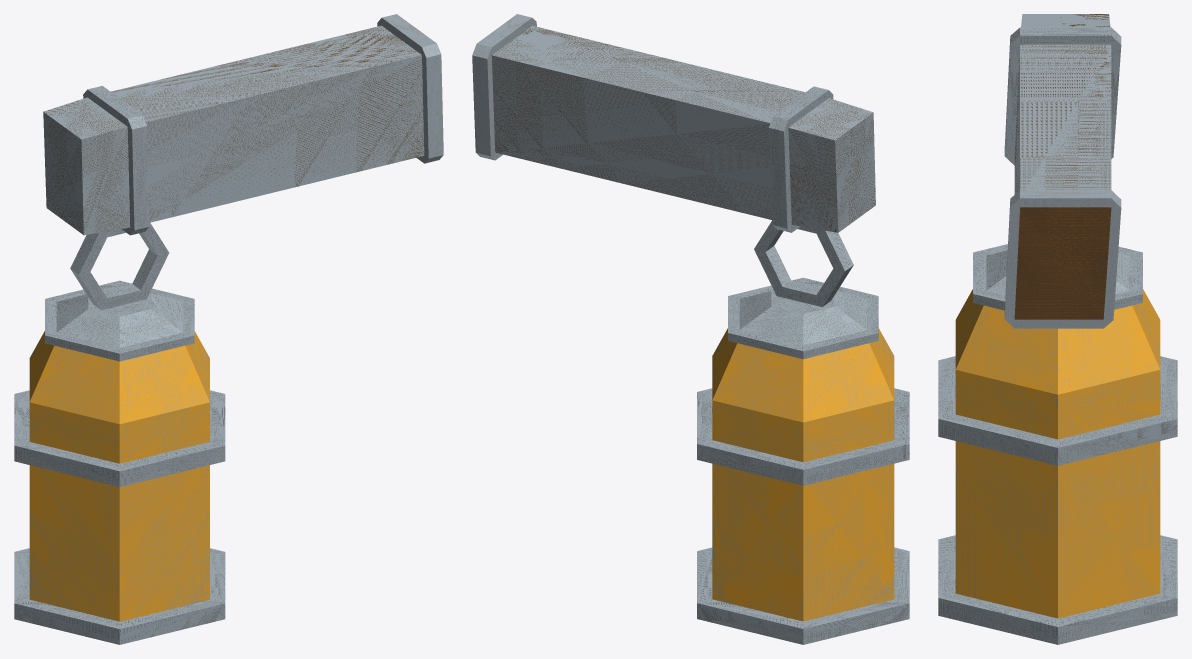
Rendered from Lantern_Pole_01.fbx.
The picture shows the model from 3 angles, left to right: view 1: azimuth 30°, elevation 25°; view 2: azimuth 150°, elevation 25°; view 3: azimuth 270°, elevation 25°; orthographic projection. The views are drawn at different scales.
Visible parts, largest first — view 1: Model; view 2: Model; view 3: Model.
Boxes of the visible parts, x1,y1,x2,y2 form: Model: (14, 14, 443, 644); Model: (472, 14, 909, 644); Model: (938, 14, 1177, 644).
Size of the model in its own units: 269 by 310 by 121.
